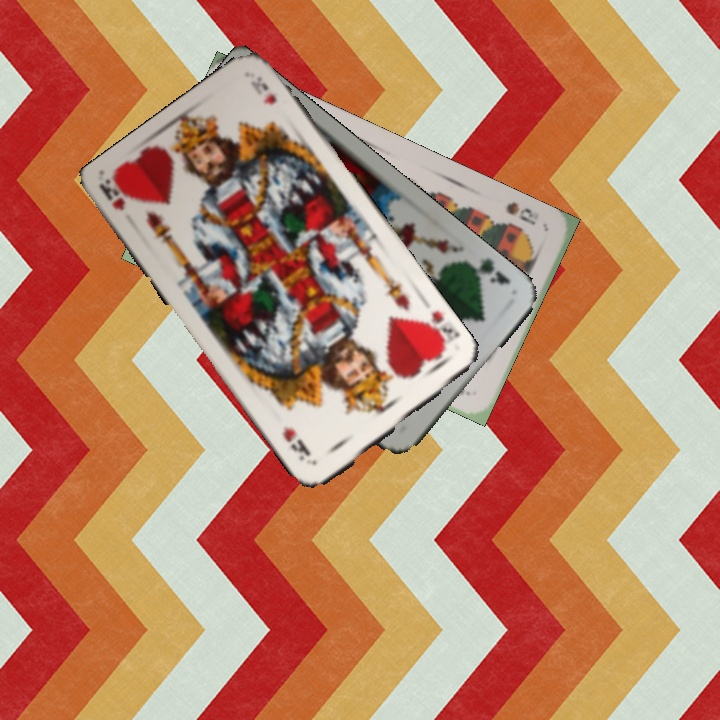GK: (465, 254, 513, 288)
HK: (417, 306, 462, 354), (98, 176, 129, 214)
S8: (502, 197, 538, 228)
